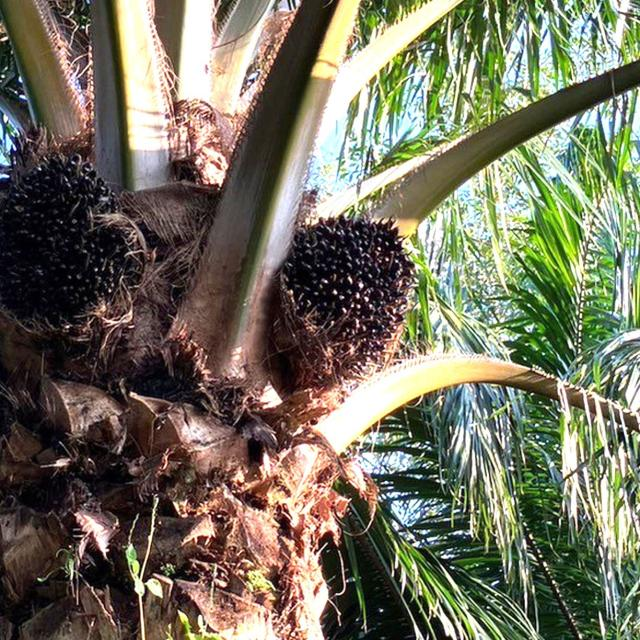almost: (266, 196, 418, 411)
